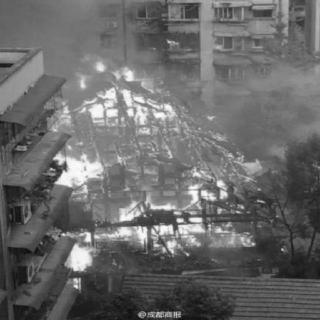Fire: (41, 51, 268, 255)
